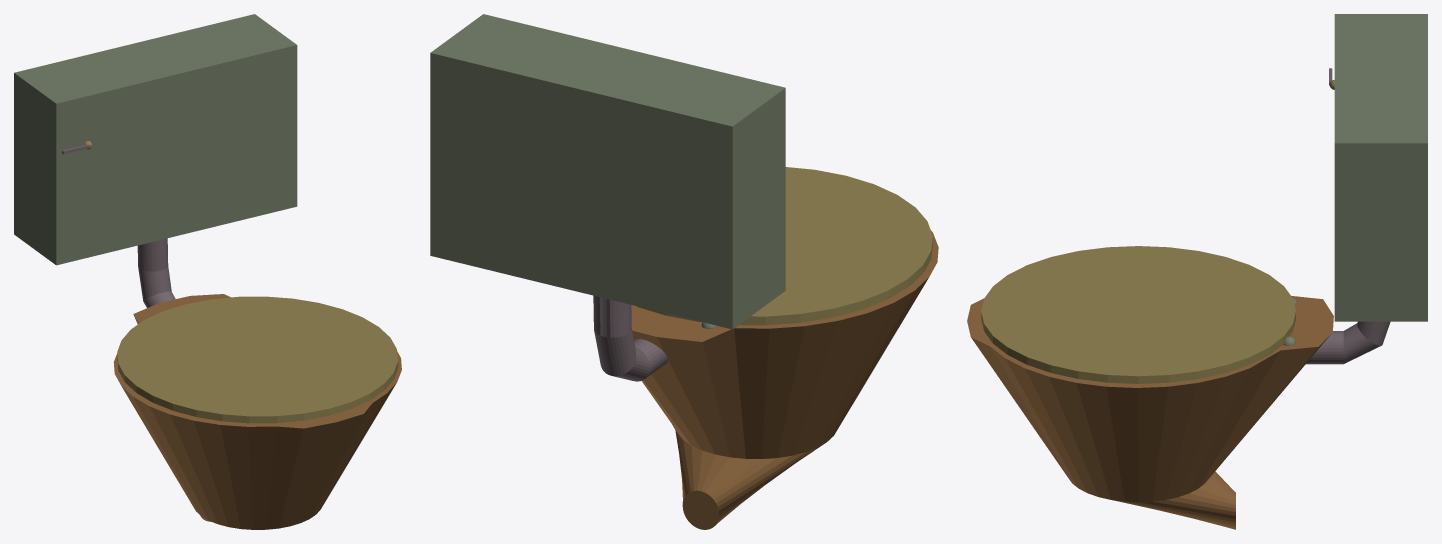
File: toilet-merged.glb
3 views of the same model, side by side, from view 1: azimuth 30°, elevation 25°; view 2: azimuth 150°, elevation 25°; view 3: azimuth 270°, elevation 25° (orthographic). The views are drawn at different scales.
Visible parts, largest first — view 1: toilet; view 2: toilet; view 3: toilet.
Part boxes in pixels (x1=…): toilet: x1=14, y1=14, x2=401, y2=529; toilet: x1=430, y1=14, x2=938, y2=529; toilet: x1=967, y1=14, x2=1427, y2=529.
Size of the model in its own units: 0.6202 by 0.9613 by 0.8846.
